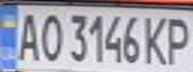1: (84, 11, 106, 63)
3: (63, 10, 87, 63)
4: (103, 11, 127, 64)
6: (121, 12, 145, 65)
A: (12, 8, 42, 62)
K: (139, 12, 172, 65)
O: (36, 9, 66, 63)
P: (163, 12, 193, 65)
